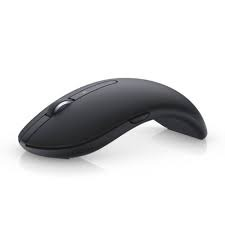mouse: (20, 66, 210, 170)
